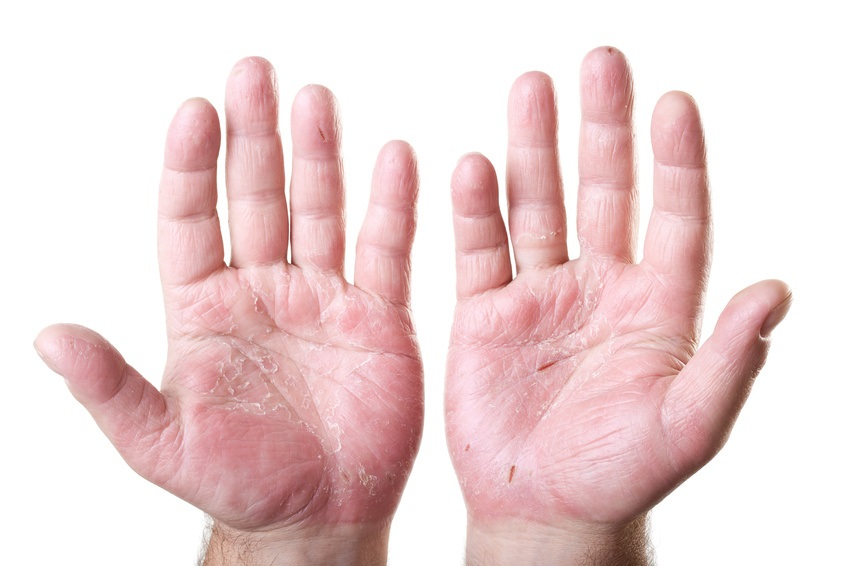Diseased: (185, 167, 696, 530)
